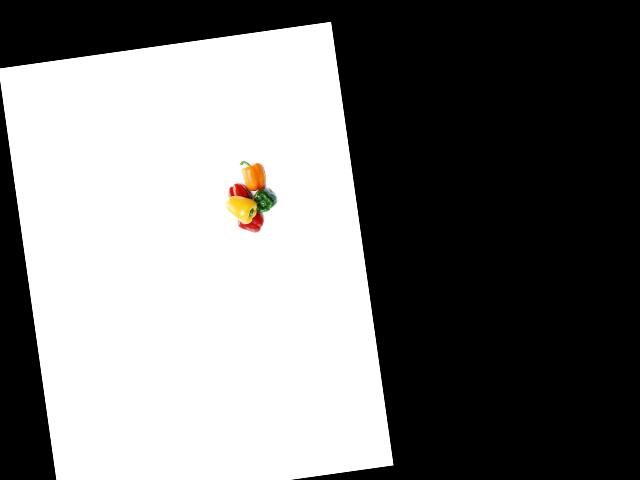bell_pepper: (245, 184, 282, 219)
